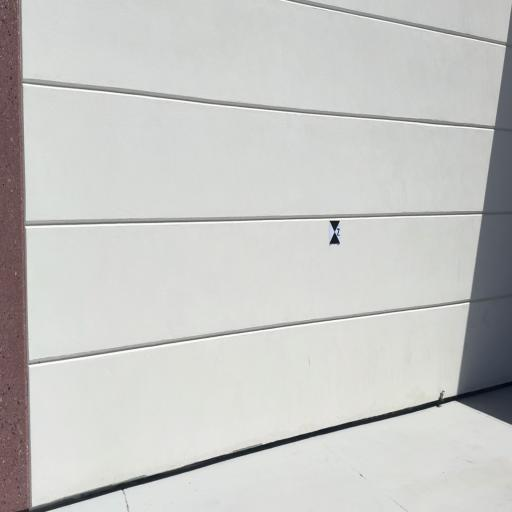target7: (329, 220, 342, 244)
